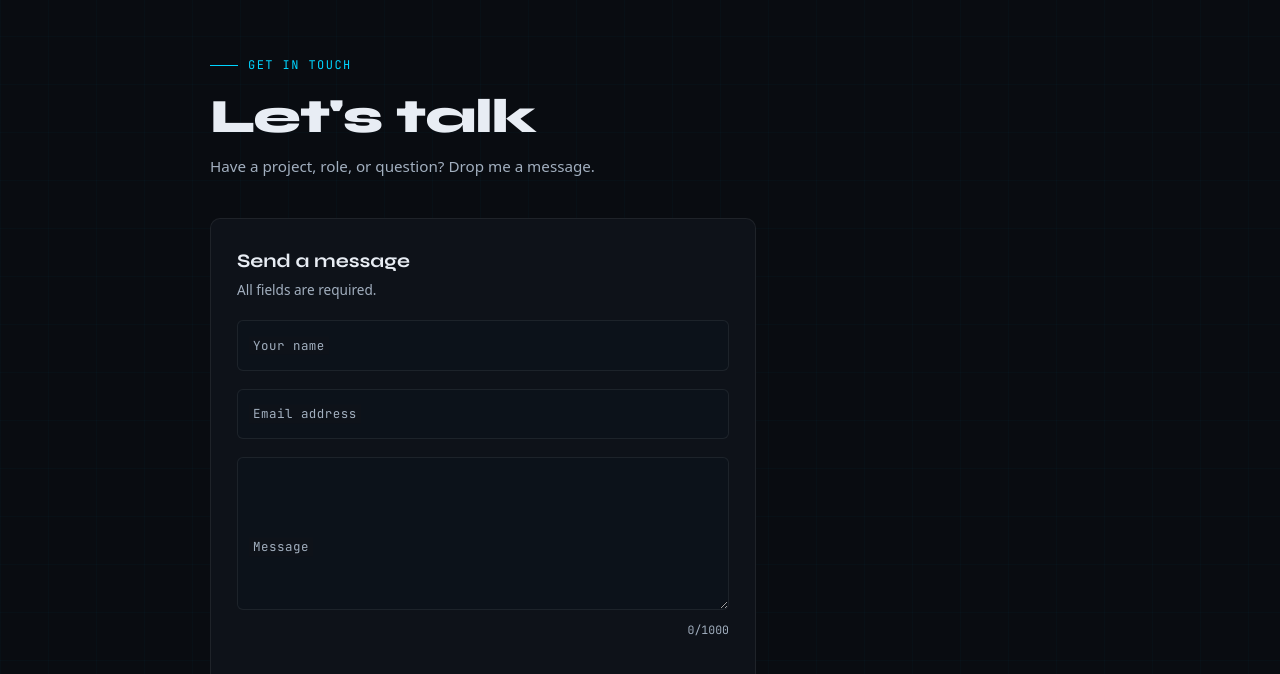
Test: Contact › renders server field errors returned by the contact API
The width and height of the screenshot is (1280, 674).
Type "Max Petrykin" into the field named "your name" at (483, 346), box [237, 320, 729, 371]
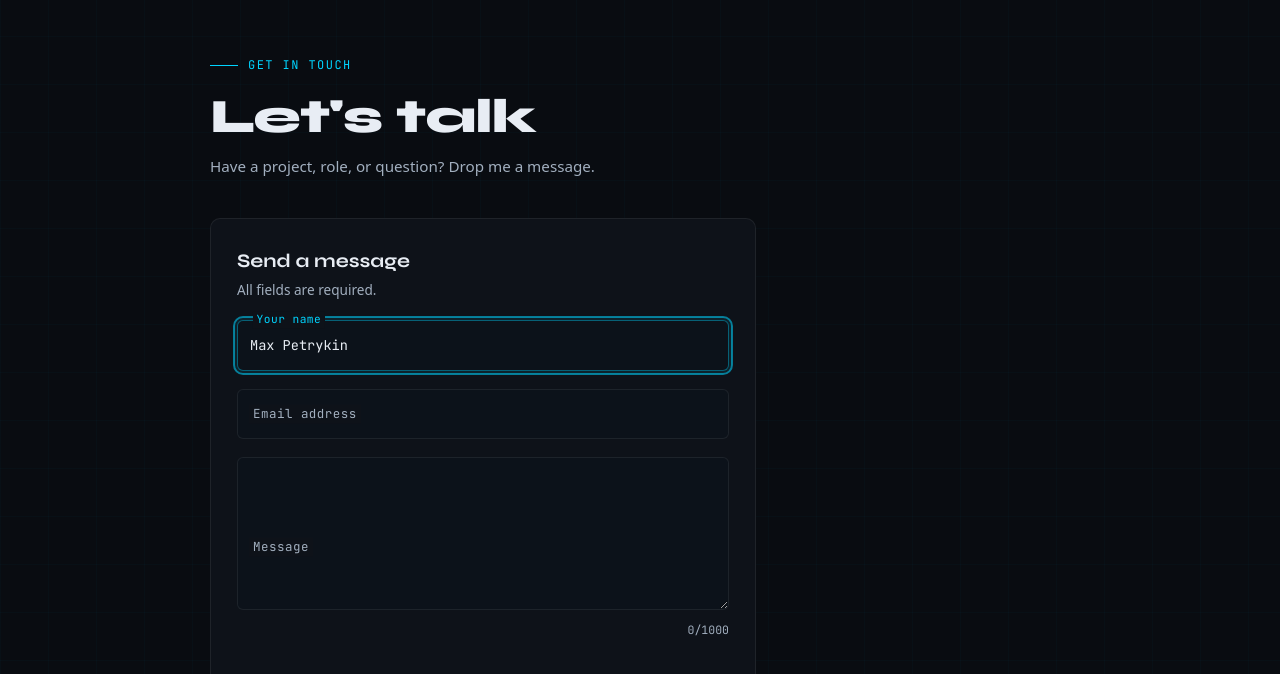
Type "max@example.com" into the field named "email address" at (483, 414), box [237, 389, 729, 439]
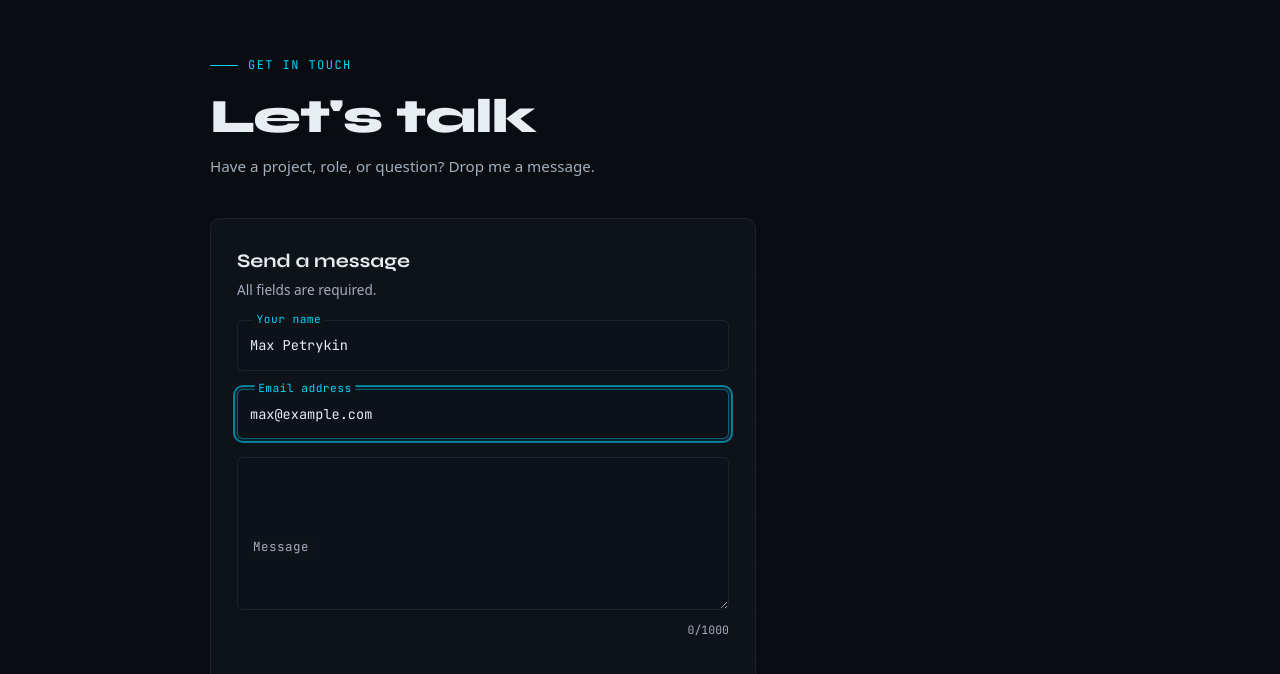
Type "This is a valid contact message." into the text box named "message" at (483, 533), box [237, 457, 729, 610]
(page scrolled)
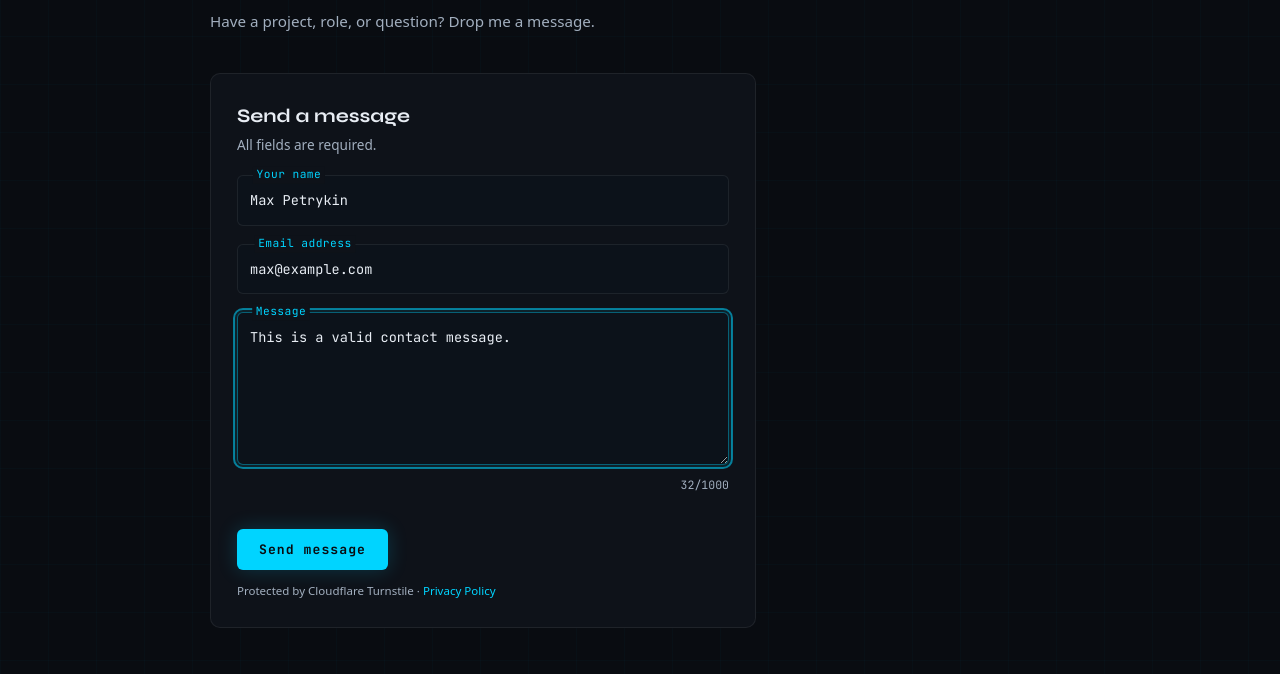
Expected: the button "Send message" is enabled
Click the button "Send message" at (312, 549), box [237, 529, 388, 570]
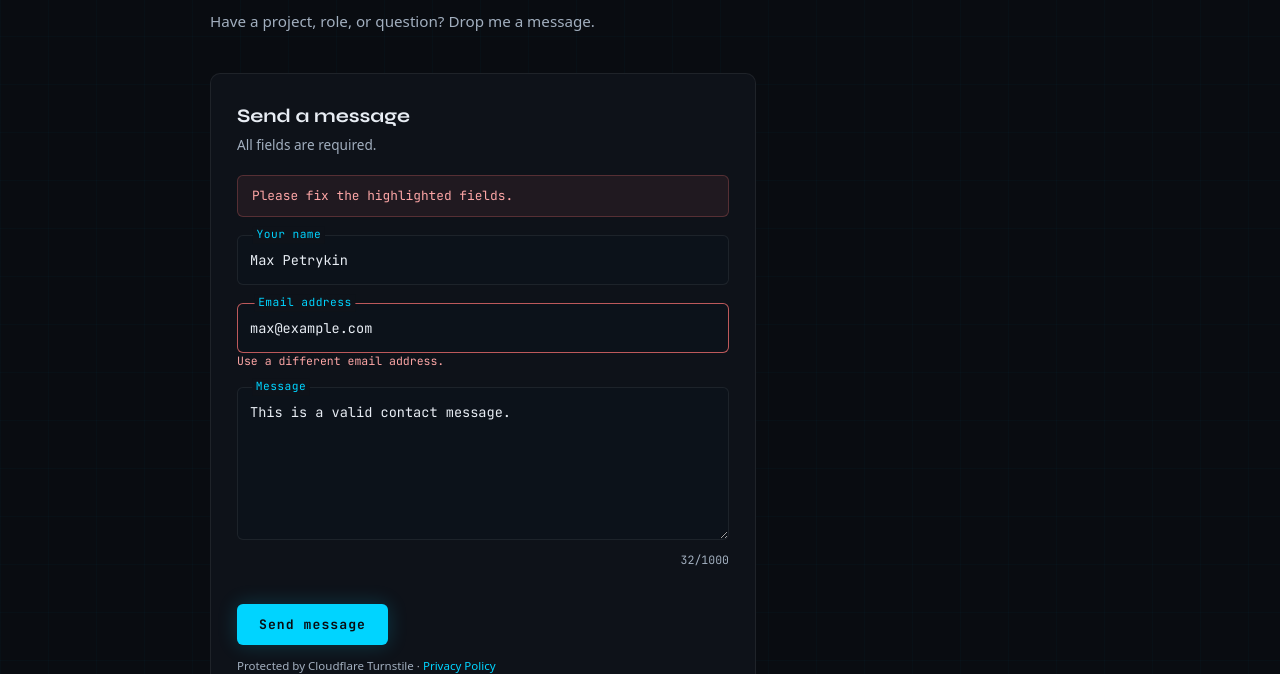
Expected: the message shows "Please fix the highlighted fields", [252, 187, 513, 204]
Expected: the text "Use a different email address." is shown, [237, 353, 444, 368]
